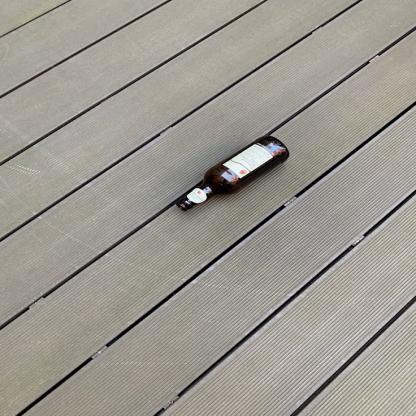trash: (171, 133, 290, 218)
